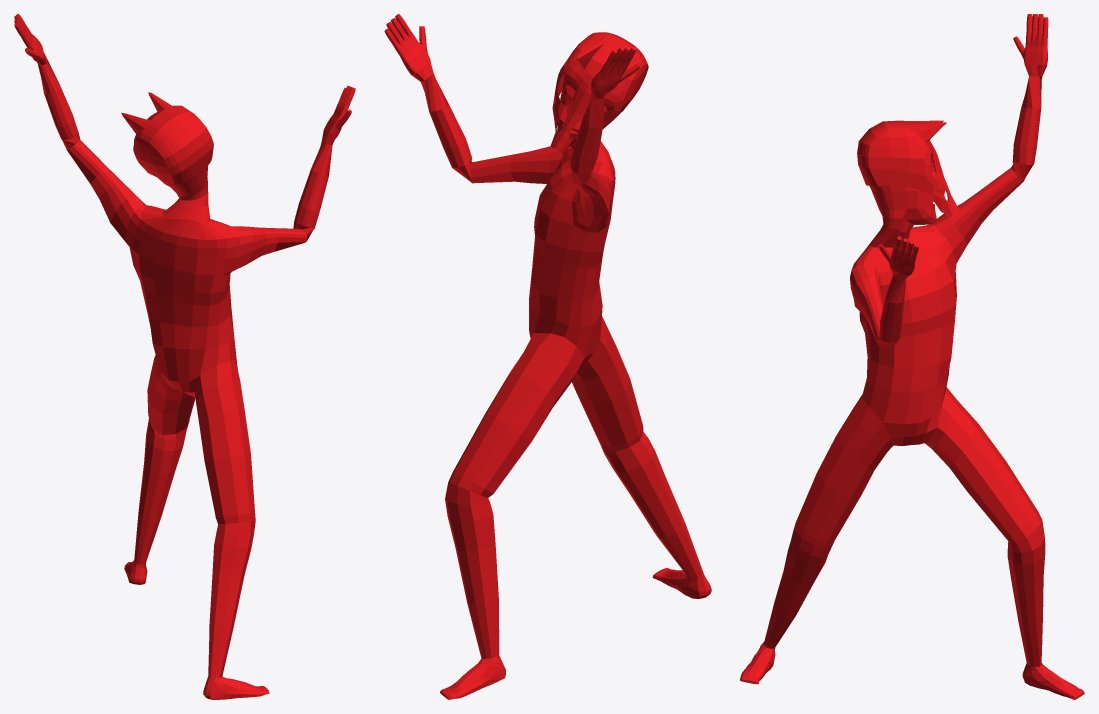
File: activaAlarma_000207.obj
3 views of the same model, side by side, from view 1: azimuth 30°, elevation 25°; view 2: azimuth 150°, elevation 25°; view 3: azimuth 270°, elevation 25° (orthographic). The views are drawn at different scales.
Parts seen in each view (by area): view 1: Plane.002_Plane.001; view 2: Plane.002_Plane.001; view 3: Plane.002_Plane.001.
Part boxes in pixels (box(x1,y1,x2,y2)): Plane.002_Plane.001: box(14, 14, 355, 699); Plane.002_Plane.001: box(384, 14, 711, 699); Plane.002_Plane.001: box(740, 14, 1084, 699).
Size of the model in its own units: 3.66 by 7.53 by 3.8.
